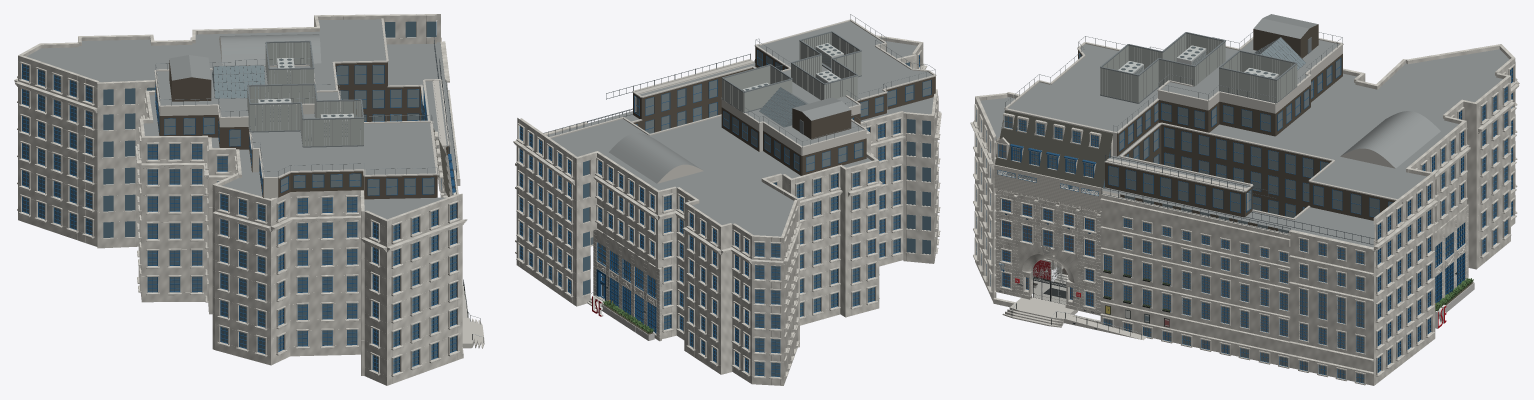
Rendered from old-exterior-21cef03f0849.glb.
The picture shows the model from 3 angles, left to right: view 1: azimuth 30°, elevation 25°; view 2: azimuth 150°, elevation 25°; view 3: azimuth 270°, elevation 25°; orthographic projection. The views are drawn at different scales.
Parts seen in each view (by area): view 1: OLD.001; view 2: OLD.001; view 3: OLD.001.
Part boxes in pixels (bbox=[...]): OLD.001: bbox=[14, 14, 484, 385]; OLD.001: bbox=[513, 14, 941, 385]; OLD.001: bbox=[970, 14, 1519, 385].
Size of the model in its own units: 56.66 by 32.15 by 73.14.
118 materials, 28 textured.
